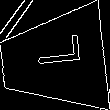L_W: (26, 42, 81, 78)
